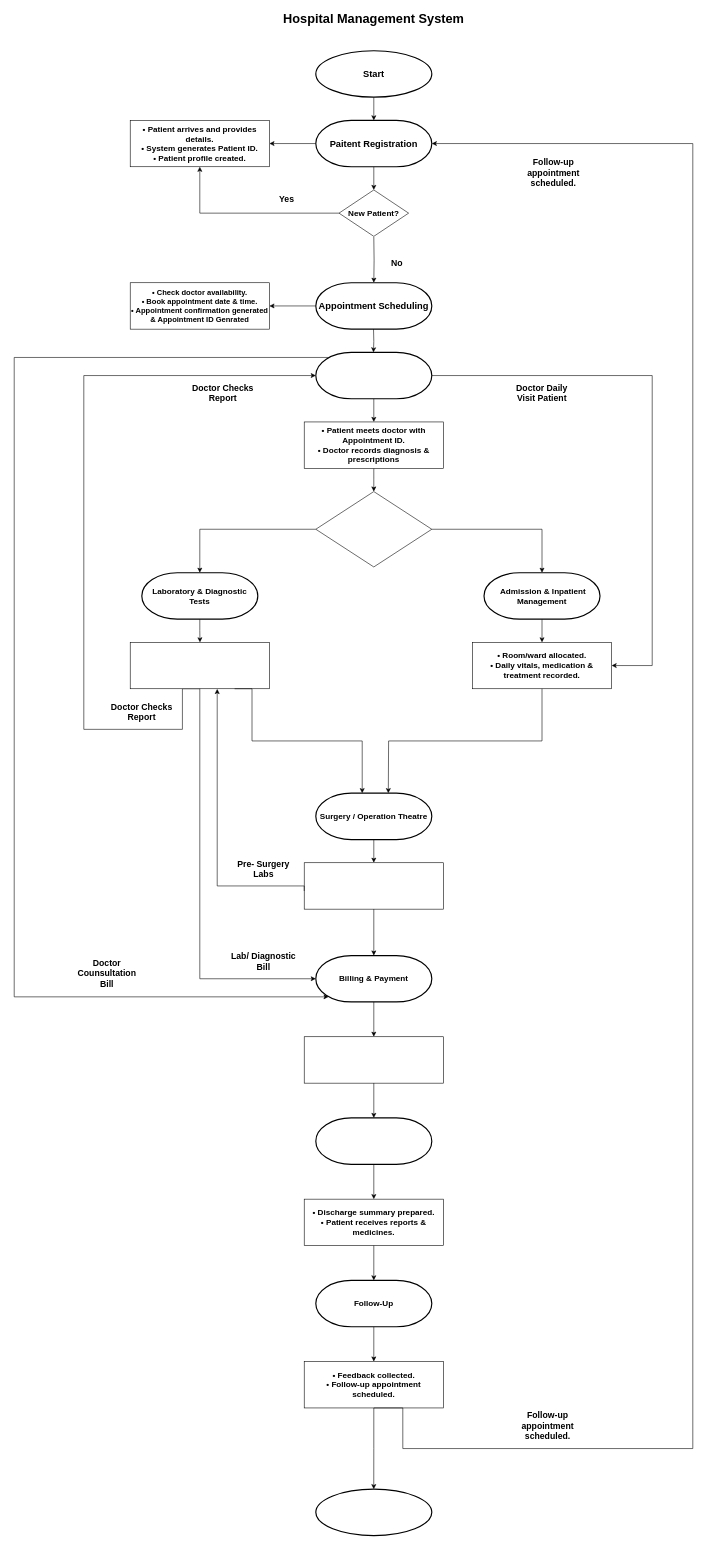
This 708x1546 diagram has some shape labels left out. Here are the shapes that lost their labels. From the top down, the box of each, then its label:
(315, 351, 432, 399): Doctor Consultation
(315, 491, 432, 567): Laboratory & Diagnostic Test / Addmission Managment
(130, 642, 269, 689): • Lab conducts tests. • Results uploaded. • Doctor reviews results.
(304, 862, 443, 909): • Pre-surgery checklist. • Surgery performed. • Post-surgery monitored.
(304, 1036, 443, 1083): • System calculates all charges. • Final invoice generated. • Payment processed.
(315, 1117, 432, 1165): Discharge Process
(315, 1488, 432, 1536): End
